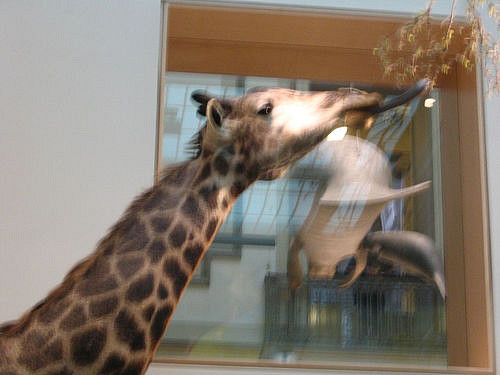giraffe: (7, 77, 388, 365)
